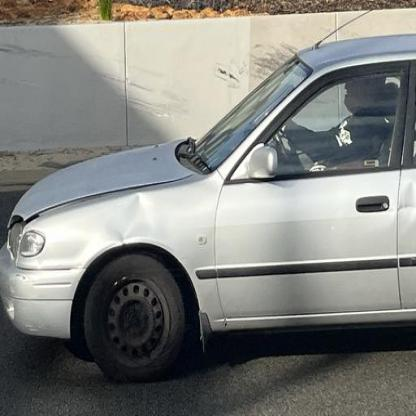Tire: (85, 255, 185, 384)
